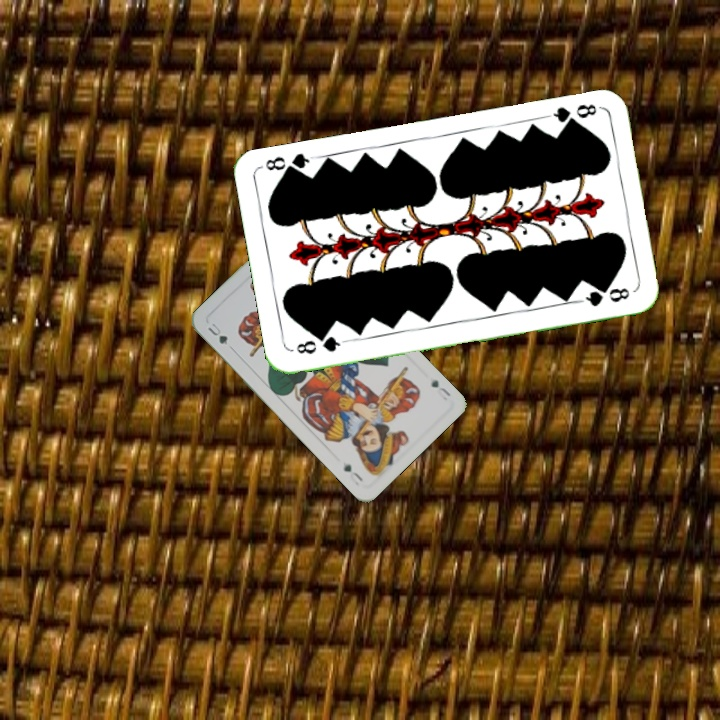G8: (543, 100, 602, 130), (292, 332, 348, 357)
GU: (204, 319, 231, 348), (427, 376, 453, 403)
